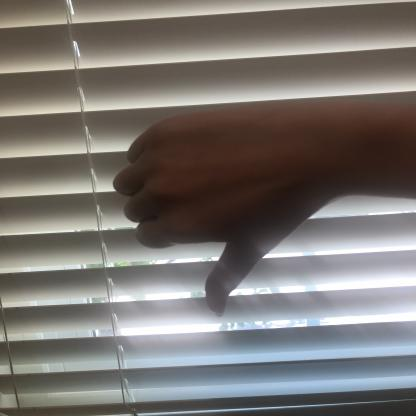Thumbs-Down: (103, 93, 321, 325)
